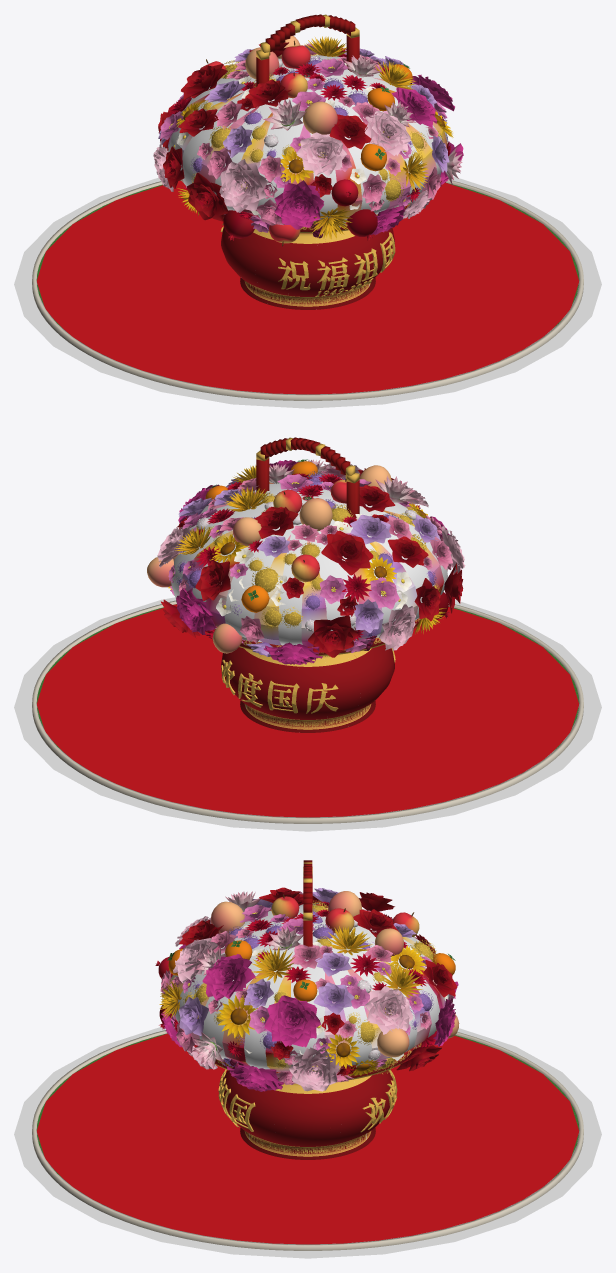
File: flowerbasket.glb
3 renders of one model, top to bottom at view 1: azimuth 30°, elevation 25°; view 2: azimuth 150°, elevation 25°; view 3: azimuth 270°, elevation 25°, orthographic.
Visible parts, largest first — view 1: Far, CLEAR_bed, Vessel, COL_tray, Curb, Handle, Text 祝福祖国, peony_blush.000, peony.005, peony_blush.006, peony_blush.005, rose_red.005 (+23 smaller); view 2: Far, Vessel, CLEAR_bed, COL_tray, Curb, Handle, Text 欢度国庆, rose_red.001, rose_red.000, peony.002, peony_blush.004, rose_red.003 (+23 smaller); view 3: Far, Vessel, CLEAR_bed, COL_tray, Curb, peony.001, peony_blush.003, peony_blush.001, peony.000, peony_blush.005, peony.004, golden.003 (+27 smaller).
Part boxes in pixels (box(x1,y1,x2,y2)): Far: box(37, 55, 578, 394); CLEAR_bed: box(14, 176, 601, 408); Vessel: box(221, 190, 425, 309); COL_tray: box(168, 55, 447, 219); Curb: box(32, 179, 583, 400); Handle: box(256, 14, 359, 86); Text 祝福祖国: box(278, 232, 395, 290); peony_blush.000: box(219, 159, 267, 212); peony.005: box(274, 180, 323, 229); peony_blush.006: box(296, 132, 346, 176); peony_blush.005: box(364, 111, 410, 155); rose_red.005: box(186, 172, 228, 221); Far: box(37, 482, 578, 817); Vessel: box(207, 618, 420, 732); CLEAR_bed: box(14, 597, 601, 831); COL_tray: box(171, 481, 447, 645); Curb: box(32, 600, 583, 823); Handle: box(256, 437, 359, 518); Text 欢度国庆: box(221, 659, 338, 713); rose_red.001: box(321, 530, 373, 575); rose_red.000: box(308, 615, 357, 657); peony.002: box(176, 588, 216, 634); peony_blush.004: box(379, 603, 415, 650); rose_red.003: box(195, 560, 230, 600); Far: box(37, 910, 578, 1244); Vessel: box(215, 1042, 421, 1159); CLEAR_bed: box(14, 1027, 601, 1258); COL_tray: box(168, 904, 449, 1069); Curb: box(32, 1030, 583, 1250); peony.001: box(264, 995, 320, 1047); peony_blush.003: box(289, 1047, 340, 1091); peony_blush.001: box(364, 986, 413, 1034); peony.000: box(202, 954, 255, 1000); peony_blush.005: box(173, 938, 218, 983); peony.004: box(227, 1065, 284, 1091); golden.003: box(217, 995, 257, 1037).
Size of the model in its own units: 52 by 25.95 by 52.
Materials: 12 (4 with a texture image).
